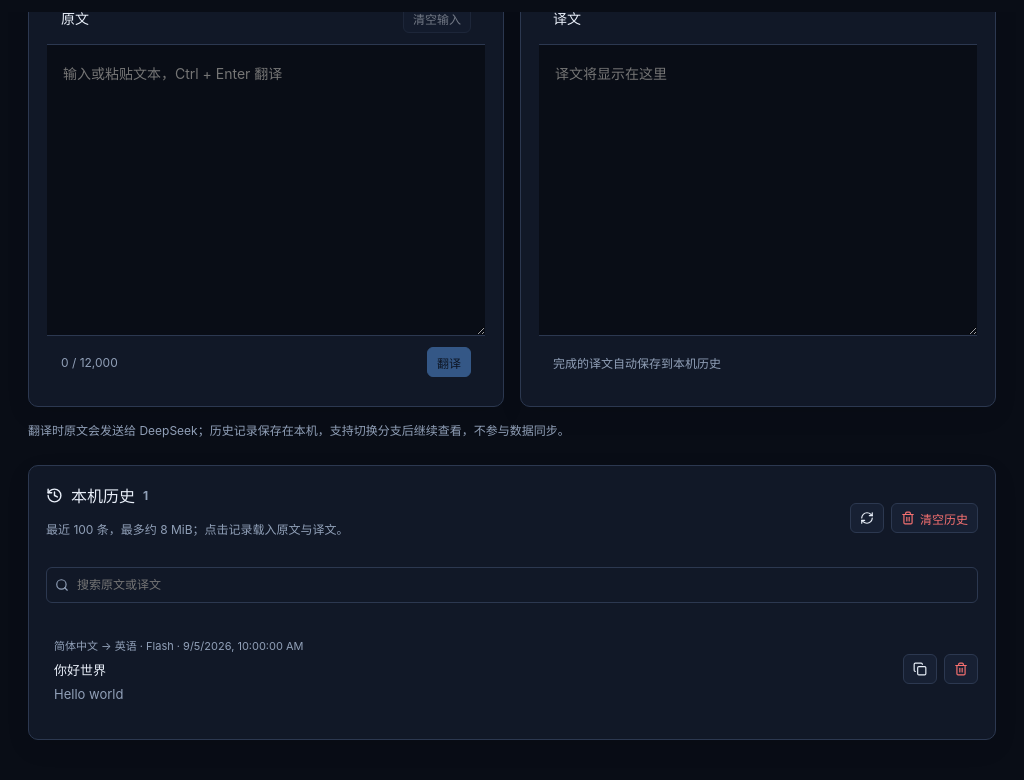
translation page › searches and loads history without issuing a paid translation request
The image size is (1024, 780).
(page scrolled)
Step 1. Click the button "简体中文 → 英语 · Flash · 9/5/2026, 10:00:00 AM 你好世界 Hello world" → click(76, 646), box [46,629,887,710]
(page scrolled)
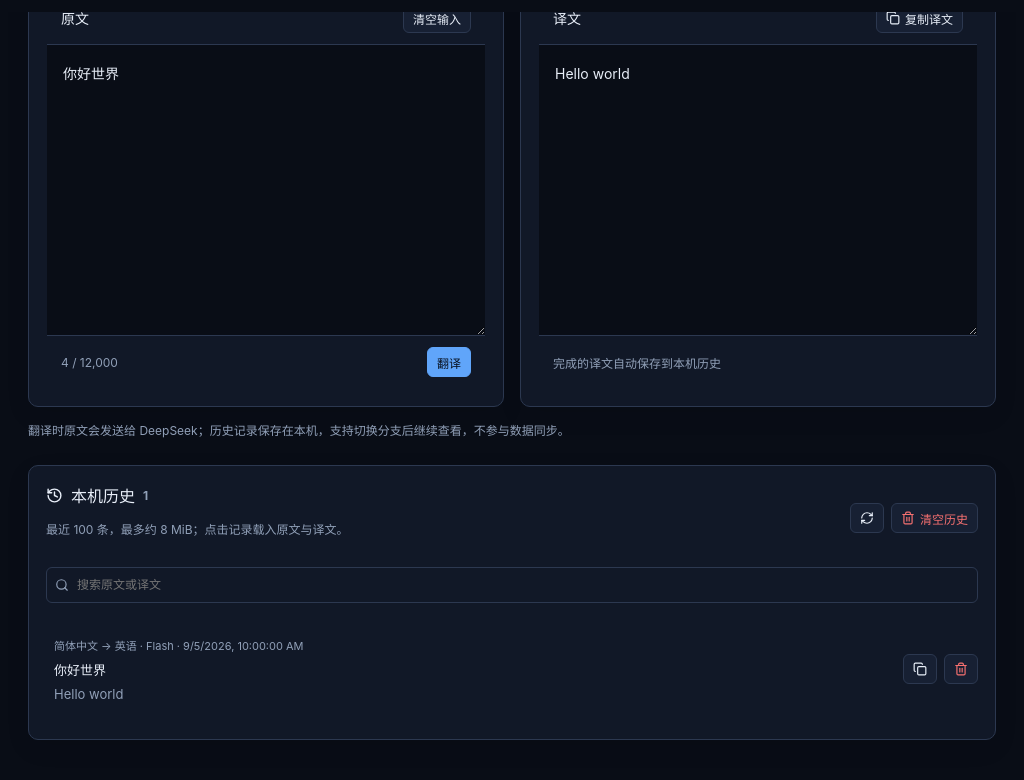
expect the text box named "待翻译文本" holds "你好世界": met, box [47,45,485,335]
expect the text box named "译文" holds "Hello world": met, box [539,45,977,335]
Step 2. Type "不存在" into the field named "搜索翻译历史" → (522, 585), box [75,576,969,594]
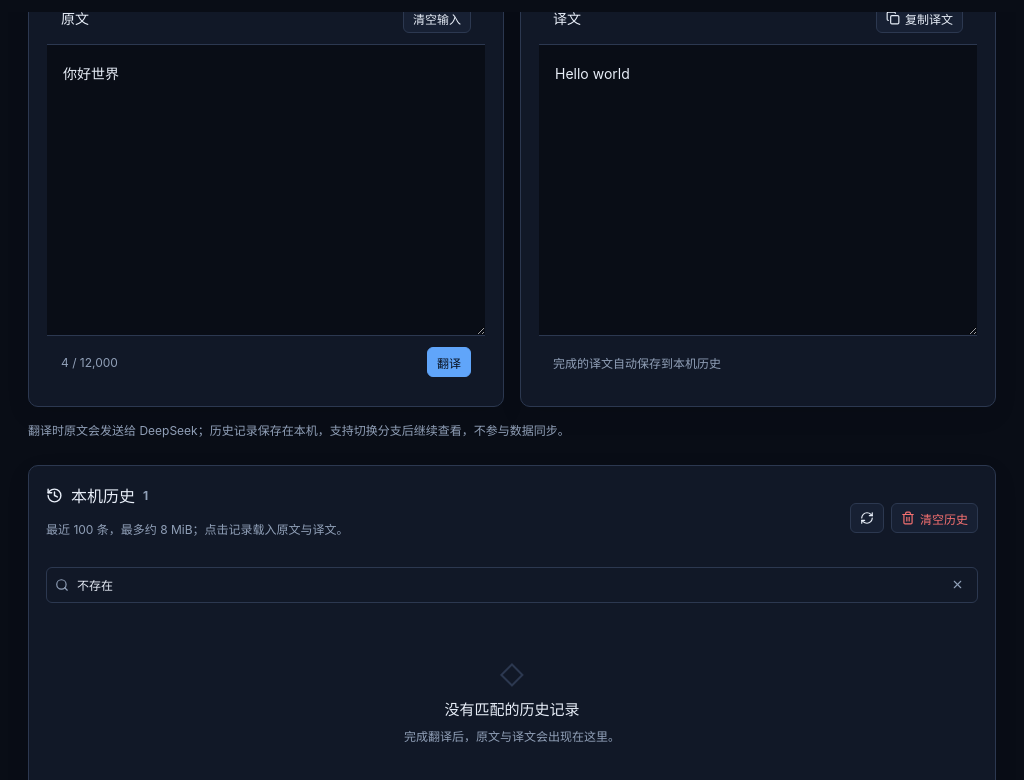
Step 3. Replace the text in the field named "搜索翻译历史" with "HELLO" → (507, 585), box [75,576,939,594]
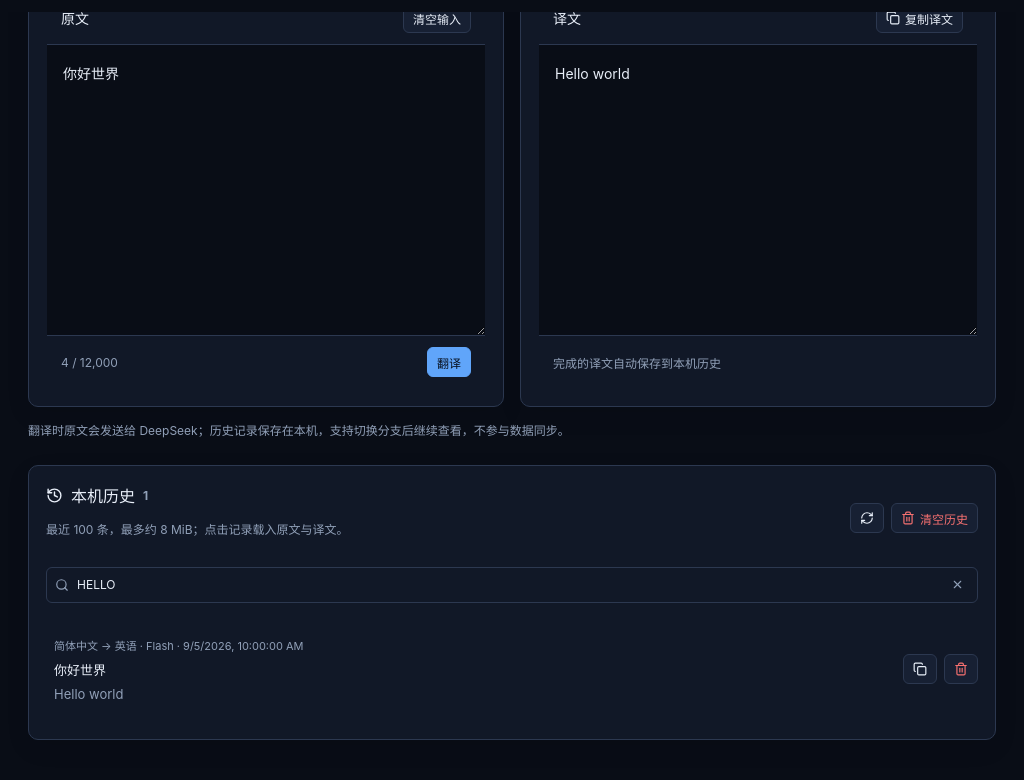
expect the button "简体中文 → 英语 · Flash · 9/5/2026, 10:00:00 AM 你好世界 Hello world" is shown: met, box [46,629,887,710]
